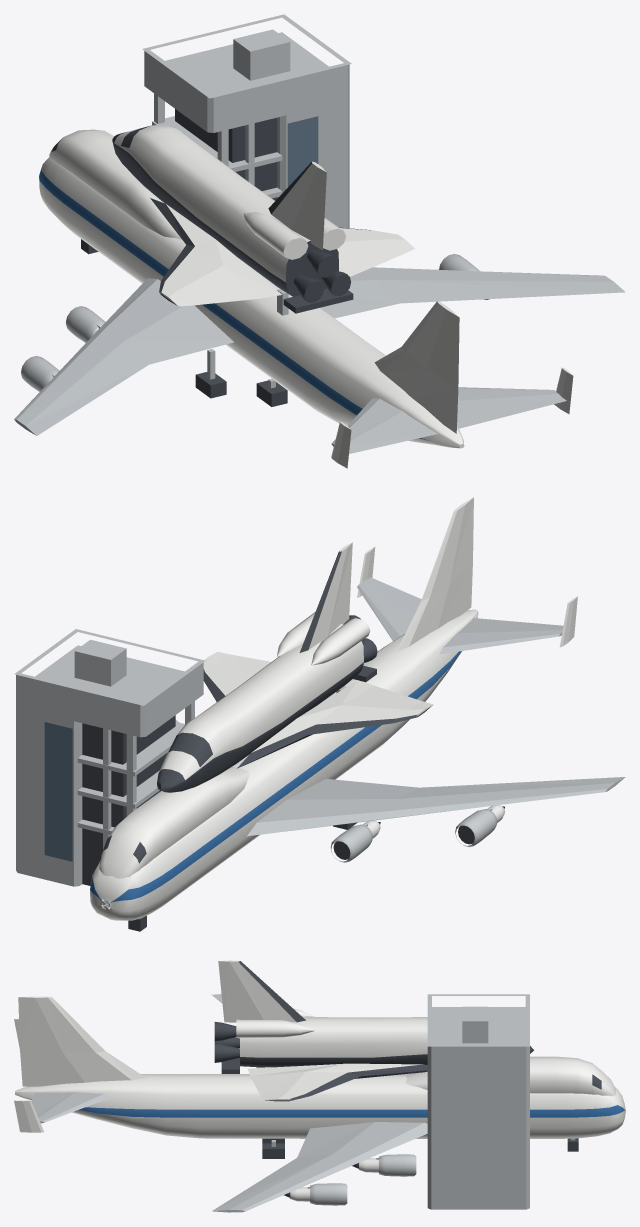
The model's file is hou-independence-plaza.glb.
3 renders of one model, top to bottom at view 1: azimuth 30°, elevation 25°; view 2: azimuth 150°, elevation 25°; view 3: azimuth 270°, elevation 25°, orthographic. The views are drawn at different scales.
Visible parts, largest first — view 1: Independence Plaza; view 2: Independence Plaza; view 3: Independence Plaza.
Boxes of the visible parts, x1,y1,x2,y2 form: Independence Plaza: [14, 14, 625, 468]; Independence Plaza: [14, 497, 625, 931]; Independence Plaza: [14, 960, 625, 1212].
Size of the model in its own units: 59.2 by 24 by 70.7.
